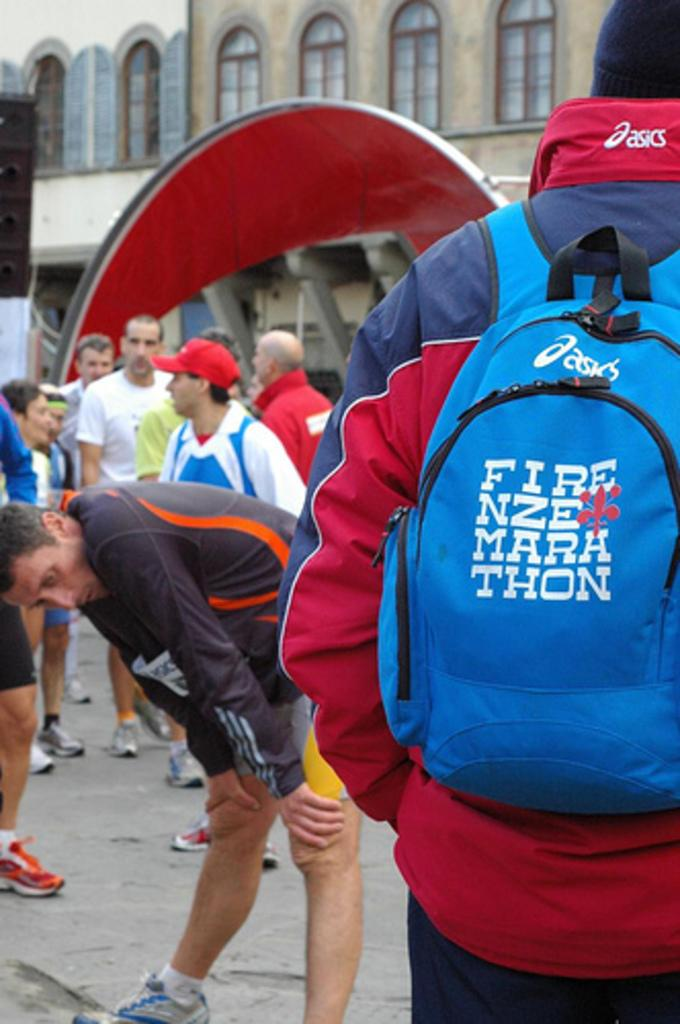Sem Máscara: (2, 534, 105, 608), (19, 389, 53, 446), (121, 322, 158, 371), (164, 373, 201, 412), (80, 344, 109, 373)
